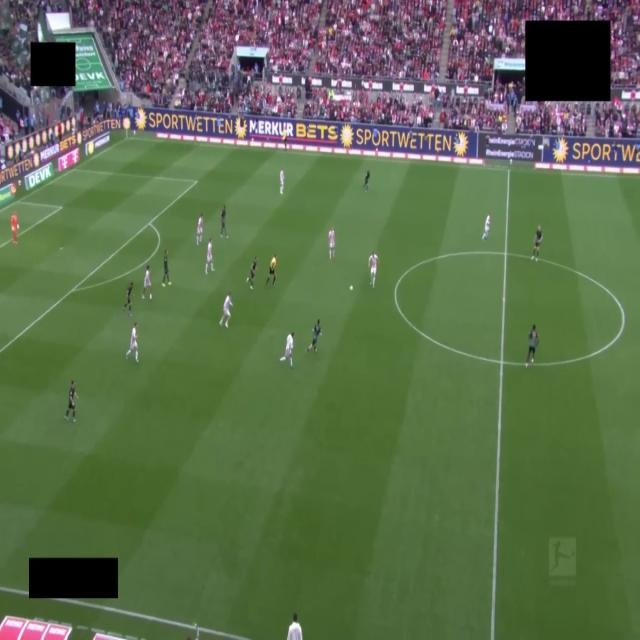ball: (350, 286, 353, 290)
player: (65, 380, 77, 422), (526, 325, 538, 367), (280, 332, 294, 367), (126, 323, 138, 362), (307, 320, 321, 351), (220, 292, 232, 327), (532, 226, 542, 261), (123, 281, 133, 316), (142, 265, 152, 299), (162, 250, 171, 287), (247, 256, 257, 289), (205, 239, 214, 274), (369, 252, 378, 287), (220, 206, 228, 238), (11, 211, 18, 244), (196, 215, 203, 245), (482, 216, 490, 240), (329, 228, 334, 259), (363, 170, 369, 191), (280, 170, 284, 194)
referee: (266, 255, 276, 287)
